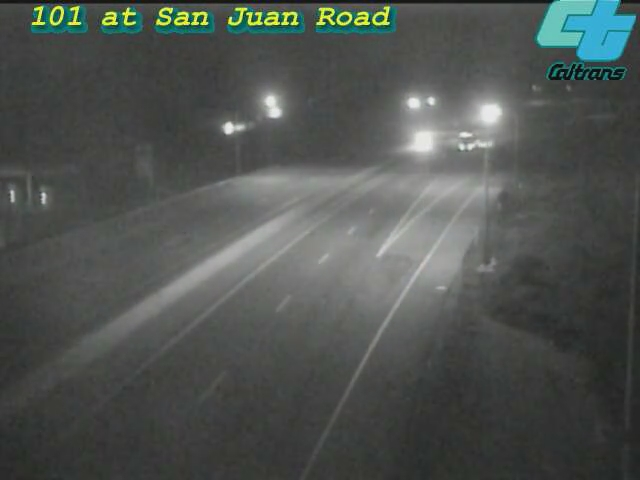vehicle: (393, 117, 443, 167), (463, 87, 513, 137), (442, 116, 492, 166)
